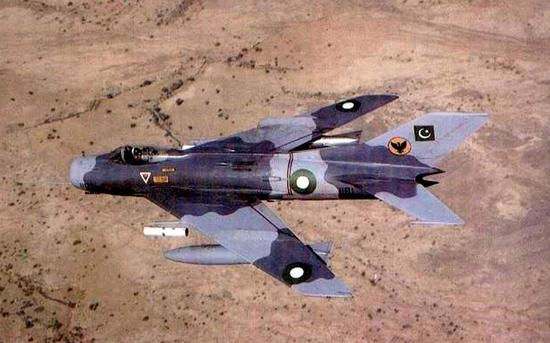airplane: (66, 95, 489, 298)
